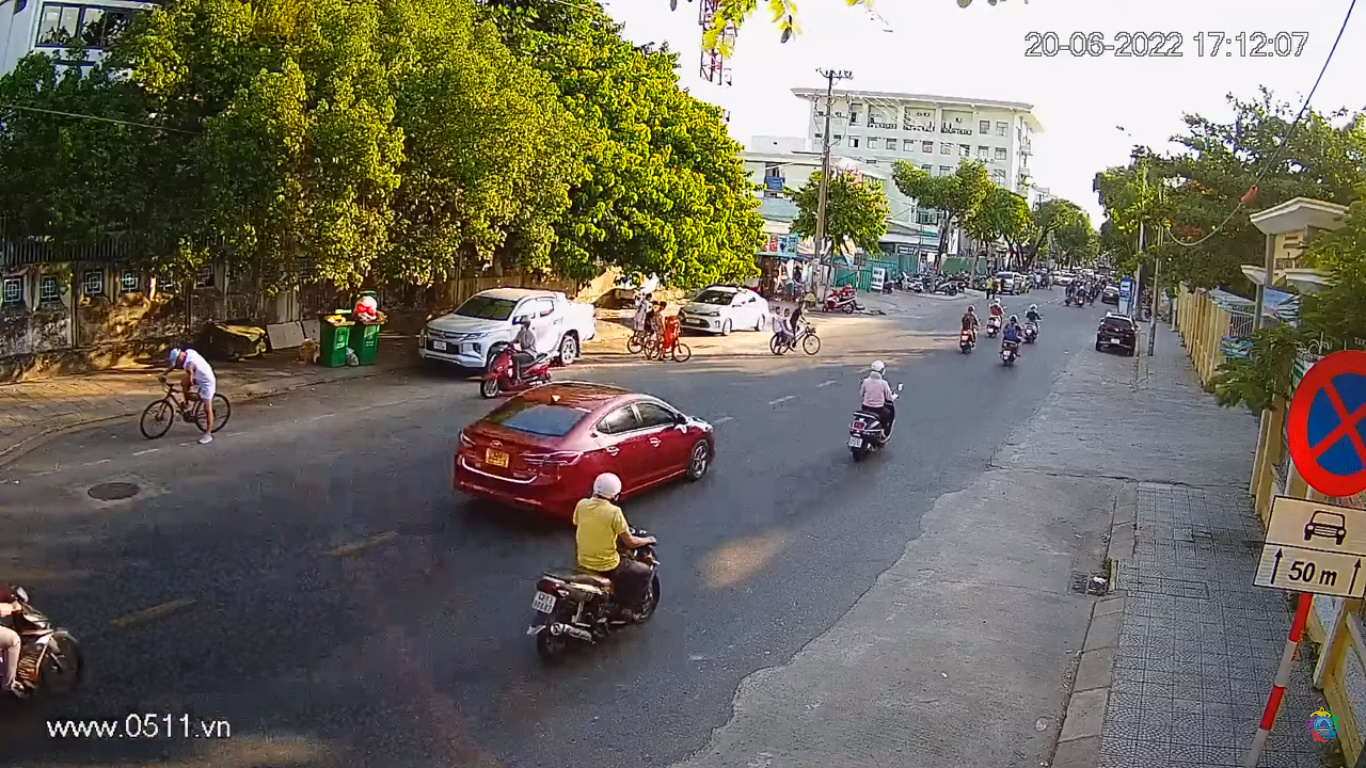car: (447, 374, 720, 528)
